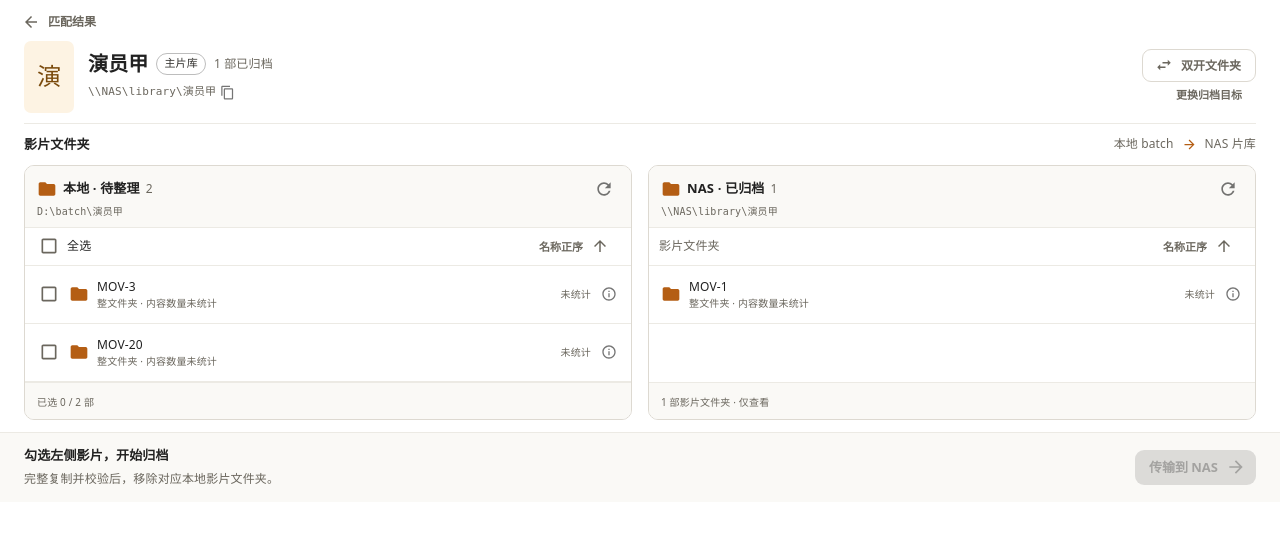
Test: directory read retries › blocks transmission while an offline refresh is paused and resumes only the directory read
Click the checkbox named "选择 MOV-3": {"x": 116, "y": 287} [37,277,591,311]
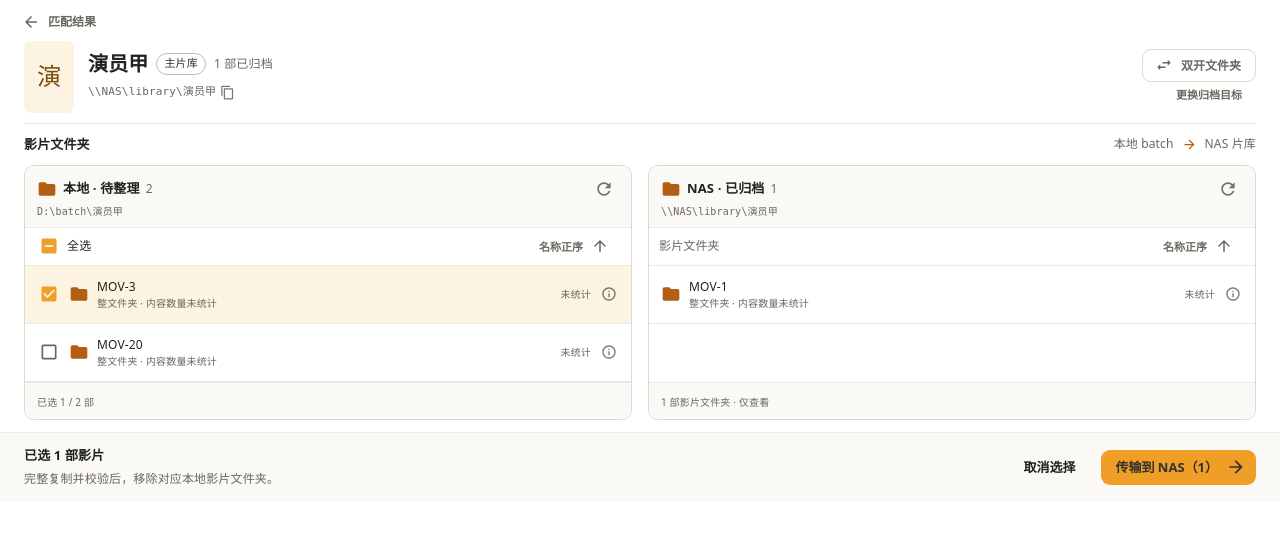
Expected: the button "传输到 NAS（1）" is enabled, [1102,450,1256,485]
Click the button named "刷新本地影片": {"x": 604, "y": 189} [589,174,619,204]
Wait 1 ms
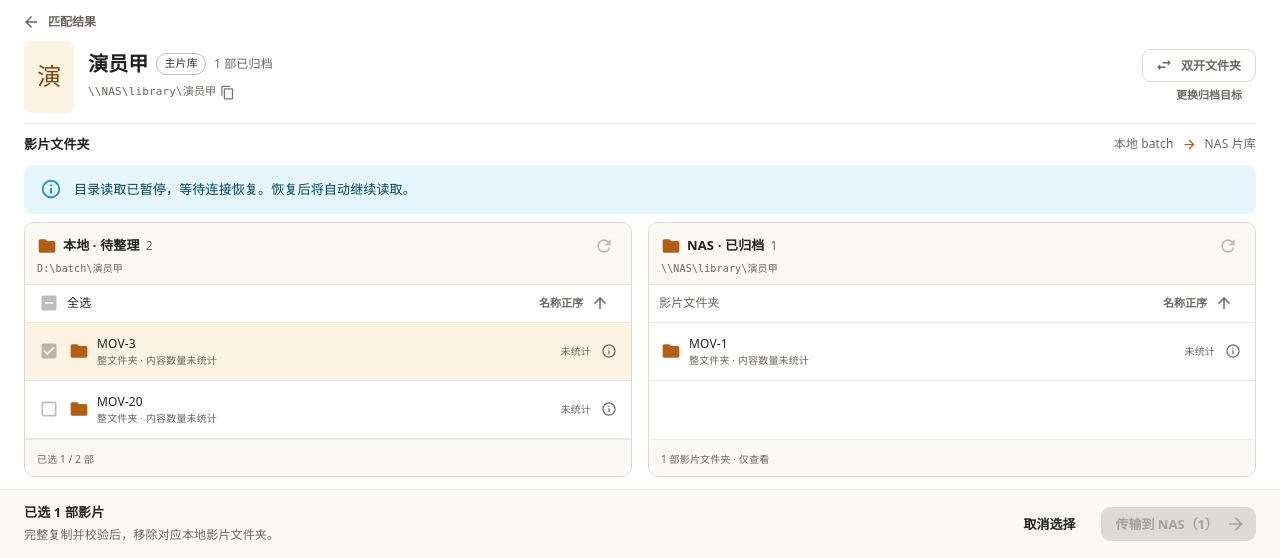
Expected: the checkbox named "选择 MOV-3" is checked, [37,334,591,368]
Expected: the button "传输到 NAS（1）" is disabled
Expected: the text "目录读取已暂停，等待连接恢复。恢复后将自动继续读取。" is shown, [74,180,416,198]
Click the button "传输到 NAS（1）": {"x": 1179, "y": 524} [1102,507,1256,541]
Wait 1 ms
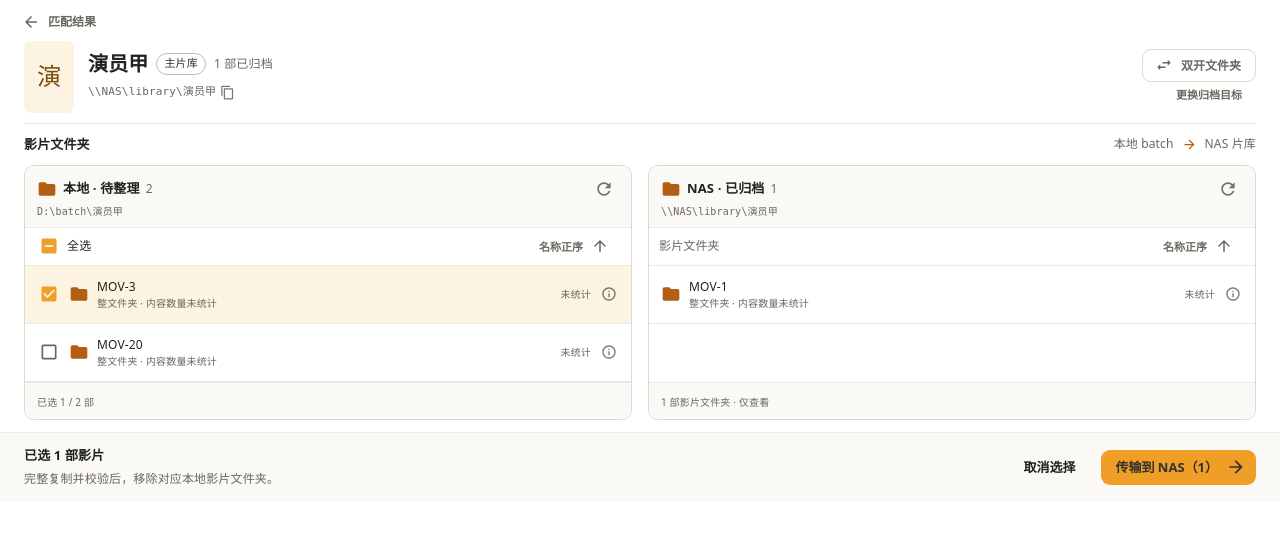
Expected: the text "等待连接恢复" is gone
Expected: the button "传输到 NAS（1）" is enabled, [1102,450,1256,485]
